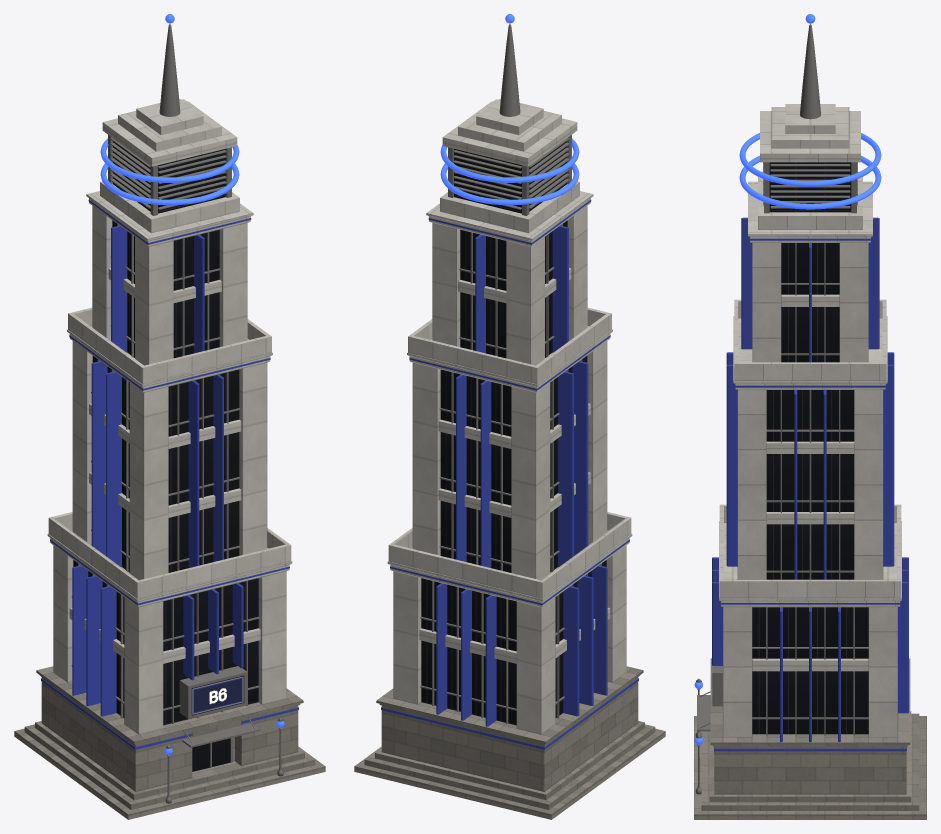
File: s06-blockchain.glb
3 renders of one model, left to right at view 1: azimuth 30°, elevation 25°; view 2: azimuth 150°, elevation 25°; view 3: azimuth 270°, elevation 25°, orthographic. The views are drawn at different scales.
Visible parts, largest first — view 1: Landmark · Blockchain (Series 6); view 2: Landmark · Blockchain (Series 6); view 3: Landmark · Blockchain (Series 6).
Part boxes in pixels (bbox=[...]): Landmark · Blockchain (Series 6): bbox=[14, 14, 325, 819]; Landmark · Blockchain (Series 6): bbox=[354, 14, 665, 819]; Landmark · Blockchain (Series 6): bbox=[694, 14, 926, 819].
Size of the model in its own units: 12 by 43 by 12.
Materials: 7 (4 with a texture image).
